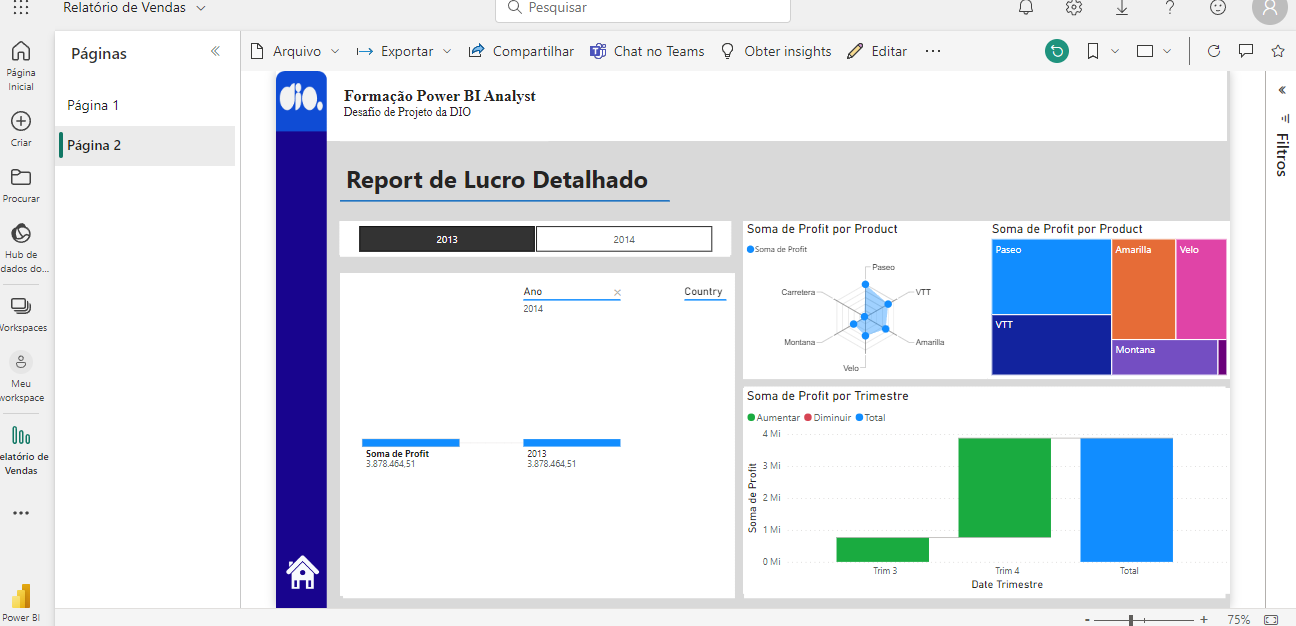

The page's visual inventory and layout, read from the dashboard file:
{"tool":"powerbi","page":{"name":"Página 2","canvas":[1280,720],"ordinal":1},"visuals":[{"type":"textbox","box":[86.4,15.8,279.4,77.8],"z":0},{"type":"textbox","box":[87.8,116.6,473.8,57.6],"z":1000},{"type":"shape","box":[86.4,99.4,442.1,149.8],"z":2000},{"type":"image","box":[2.9,642.2,66.2,59],"z":3000},{"type":"slicer","fields":{"Values":["financials.Date.Variation.Hierarquia de datas.Ano"]},"box":[86.4,201.6,522.7,47.5],"z":4000},{"type":"treemap","fields":{"Values":["Sum(financials.Profit)"],"Group":["financials.Product"]},"box":[954.7,201.6,325.4,211.7],"z":5000},{"type":"waterfallChart","fields":{"Y":["Sum(financials.Profit)"],"Category":["financials.Date.Variation.Hierarquia de datas.Trimestre"]},"box":[626.4,424.8,653.8,276.5],"z":6000},{"type":"RadarChart1446119667547","fields":{"Category":["financials.Product"],"Y":["Sum(financials.Profit)"]},"box":[626.4,201.6,328.3,211.7],"z":7000},{"type":"decompositionTreeVisual","fields":{"Analyze":["Sum(financials.Profit)"],"ExplainBy":["financials.Date.Variation.Hierarquia de datas.Ano","financials.Country"]},"box":[86.4,270.7,522.7,433.4],"z":8000}]}

Visuals, with their boxes on the page's 1280x720 design canvas (x1, y1, x2, y2). These are canvas units, not pixel positions in the 1296x626 screenshot, which may show the page scaled, cropped or inside an application window:
textbox: (86, 16, 366, 94)
textbox: (88, 117, 562, 174)
shape: (86, 99, 528, 249)
image: (3, 642, 69, 701)
slicer - financials.Date.Variation.Hierarquia de datas.Ano: (86, 202, 609, 249)
treemap - Sum(financials.Profit) x financials.Product: (955, 202, 1280, 413)
waterfallChart - Sum(financials.Profit) x financials.Date.Variation.Hierarquia de datas.Trimestre: (626, 425, 1280, 701)
RadarChart1446119667547 - financials.Product x Sum(financials.Profit): (626, 202, 955, 413)
decompositionTreeVisual - Sum(financials.Profit) x financials.Date.Variation.Hierarquia de datas.Ano: (86, 271, 609, 704)
